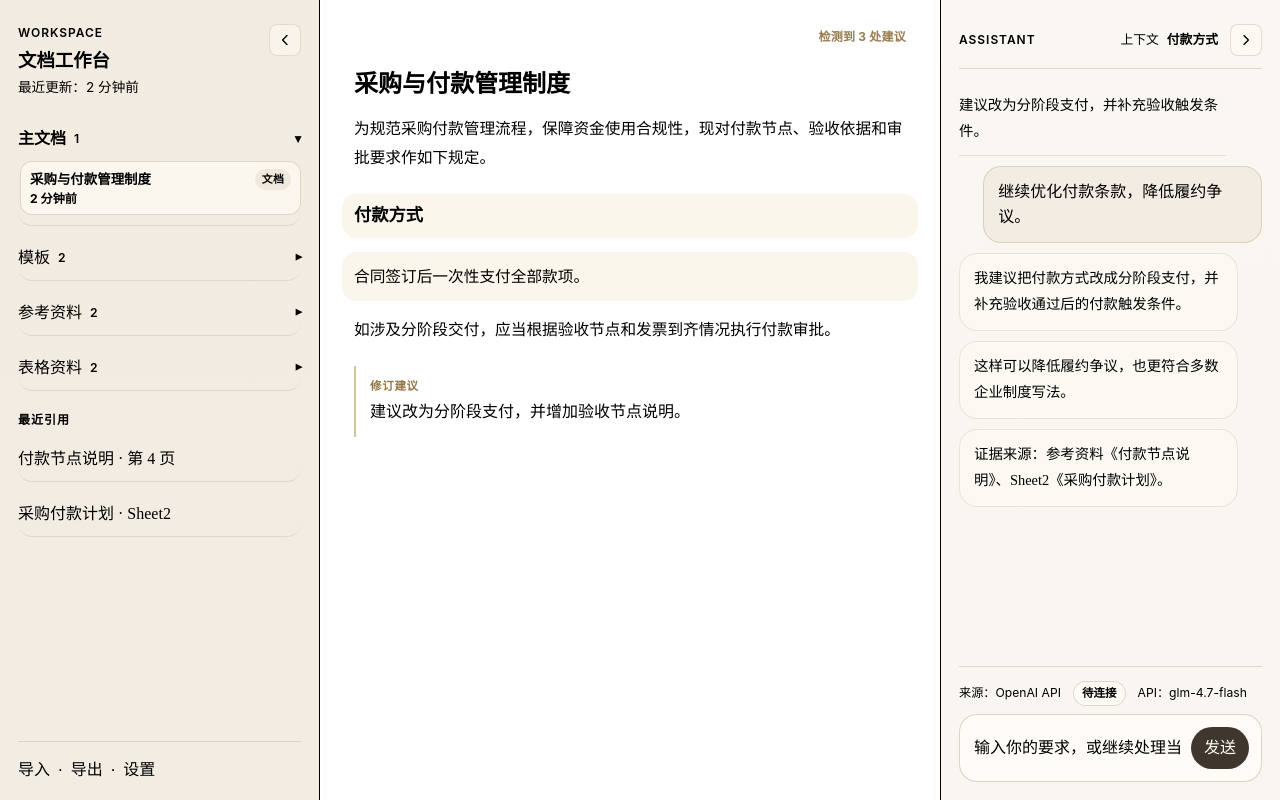
Scenario: workspace shell › shows the actual remote model error instead of a generic API hint
The image size is (1280, 800).
Step 1. Type "请继续找问题" into the field with placeholder "输入你的要求，或继续处理当前内容" → (1078, 748), box [974,736,1181,760]
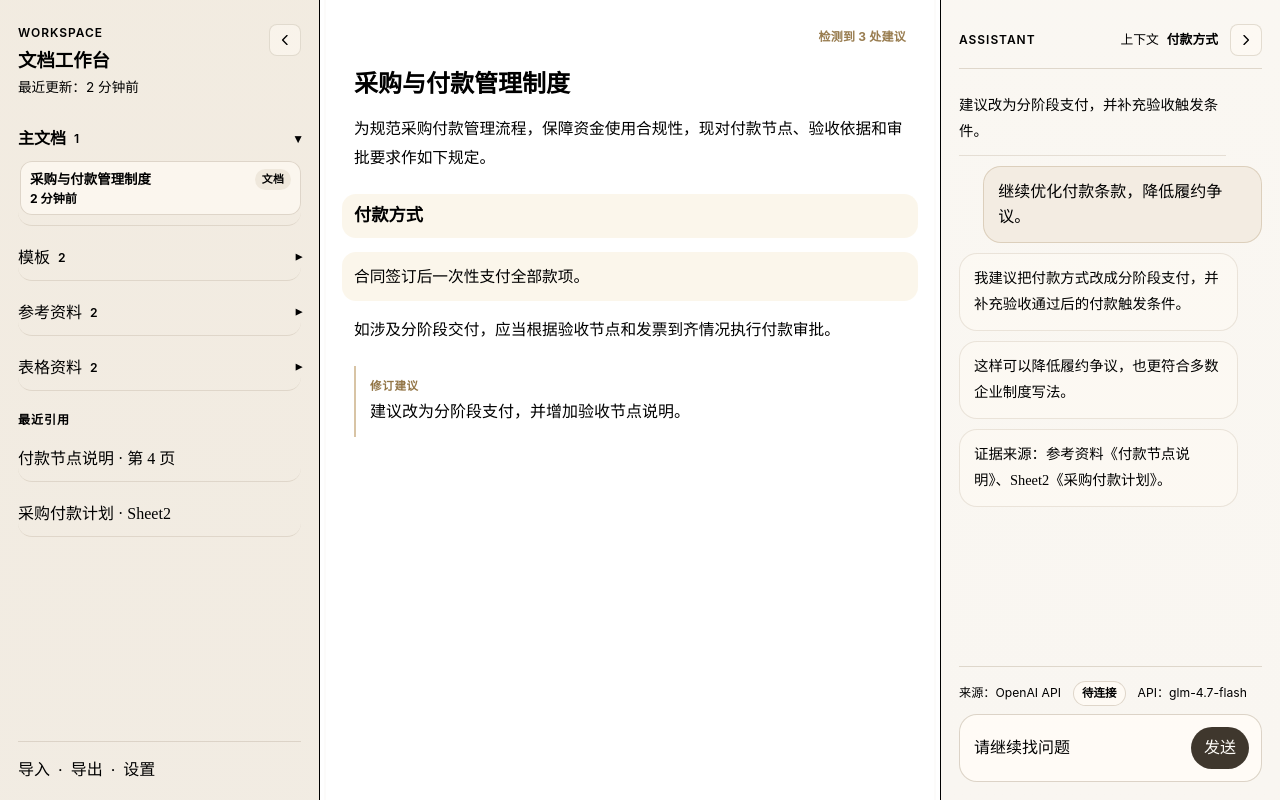
Step 2. Click the button "发送" → (1220, 748), box [1191,727,1249,769]
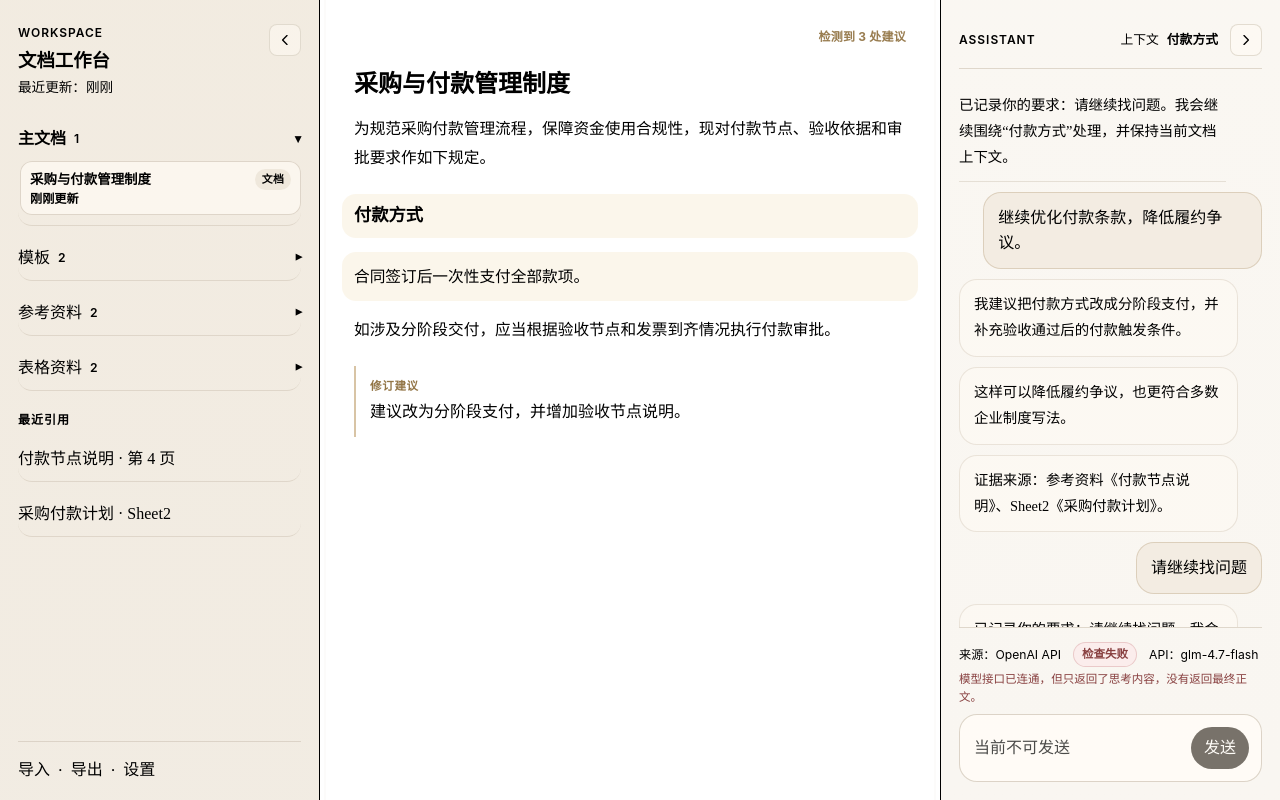
Check: the text "模型接口已连通，但只返回了思考内容，没有返回最终正文。" is shown, box [959,672,1262,706]
Check: the field with placeholder "当前不可发送" is disabled, box [974,736,1181,760]
